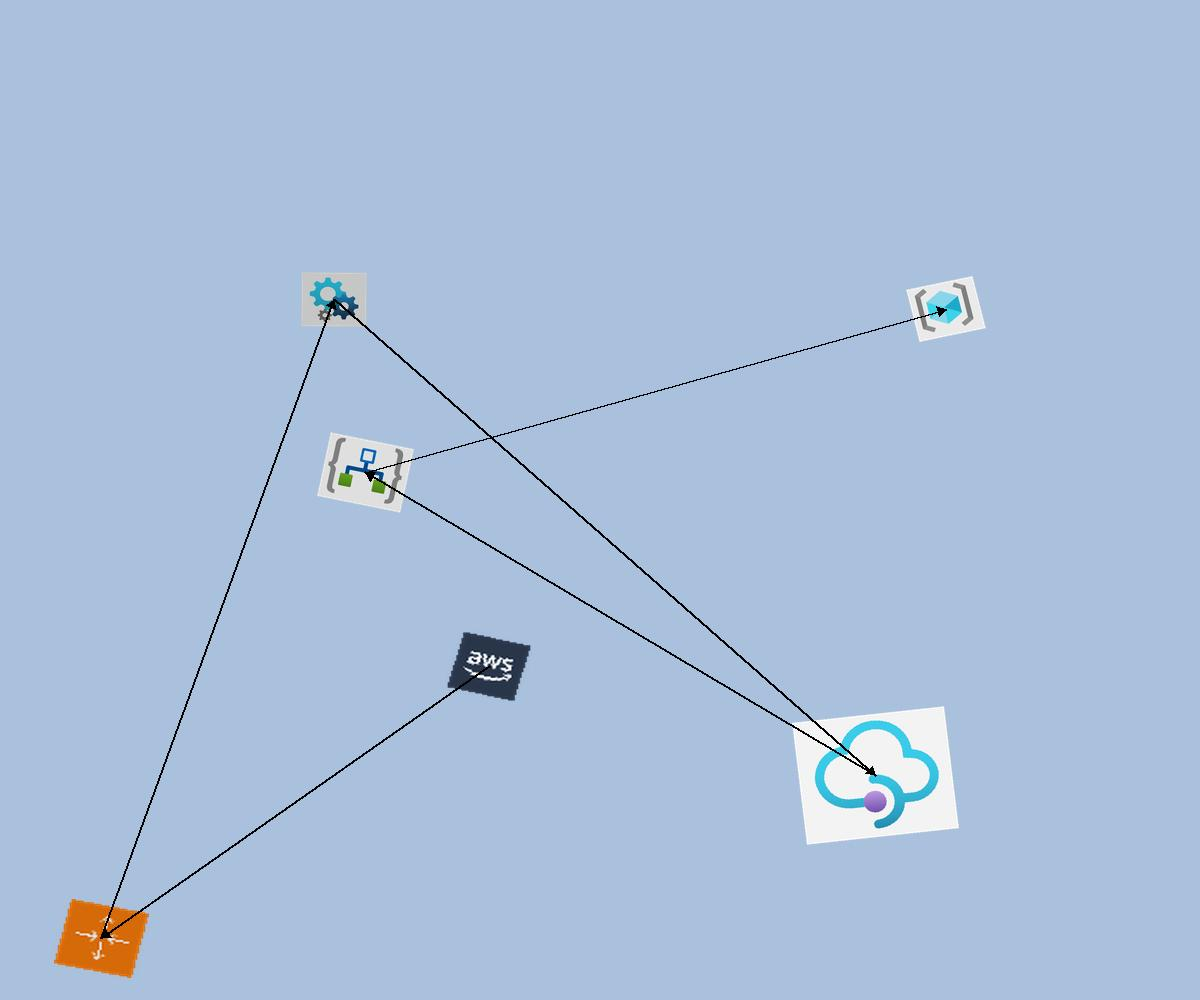AWS-Cloud-logo: (446, 631, 532, 702)
AWS-Scaling-group: (54, 899, 149, 978)
Azure_api: (301, 272, 367, 327)
Azure_api_gateway: (792, 706, 959, 845)
Azure_integration-204-Logic-Apps: (317, 432, 414, 513)
Azure_resource_group: (906, 276, 986, 342)
